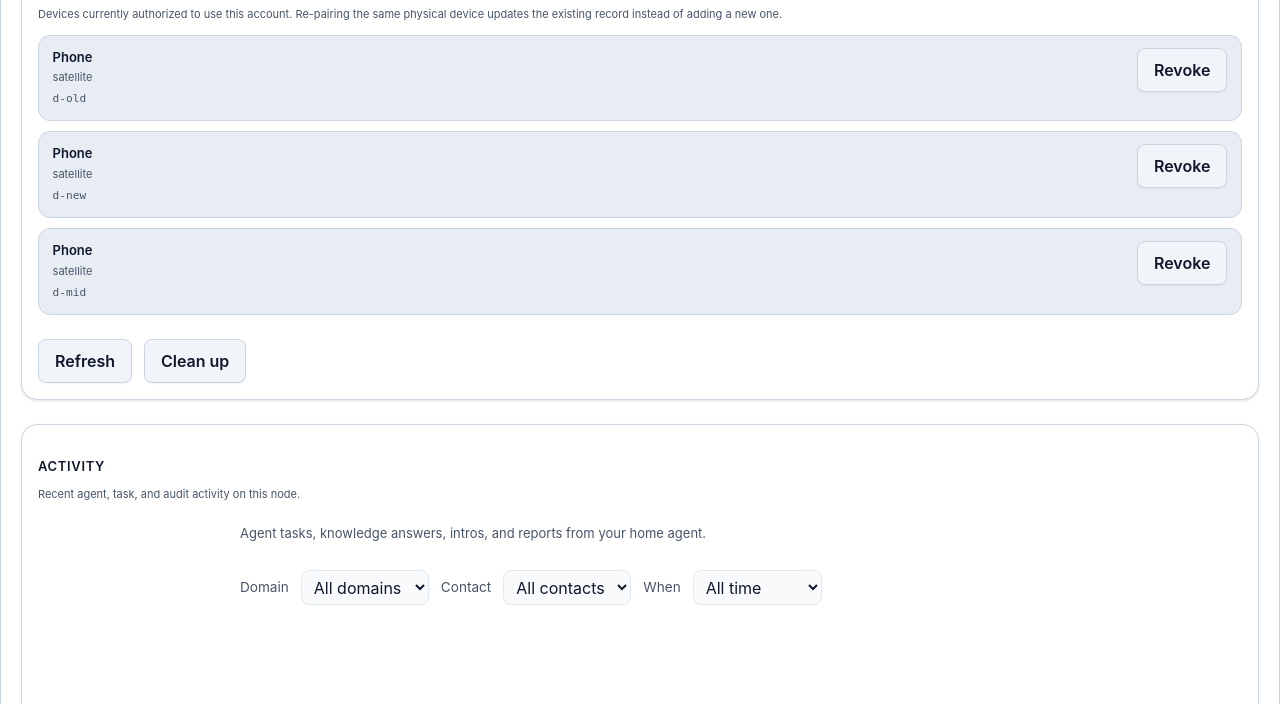
Test: SettingsAppTab (Language / Appearance / Authorized Devices / Activity) › merges older duplicates into the most-recently-paired record on confirm
(page scrolled)
Expected: the 1st text "Phone" is shown, 53,48 -> 92,64
Click the button "Clean up". click: click(195, 361)
box: 144,339 -> 246,383
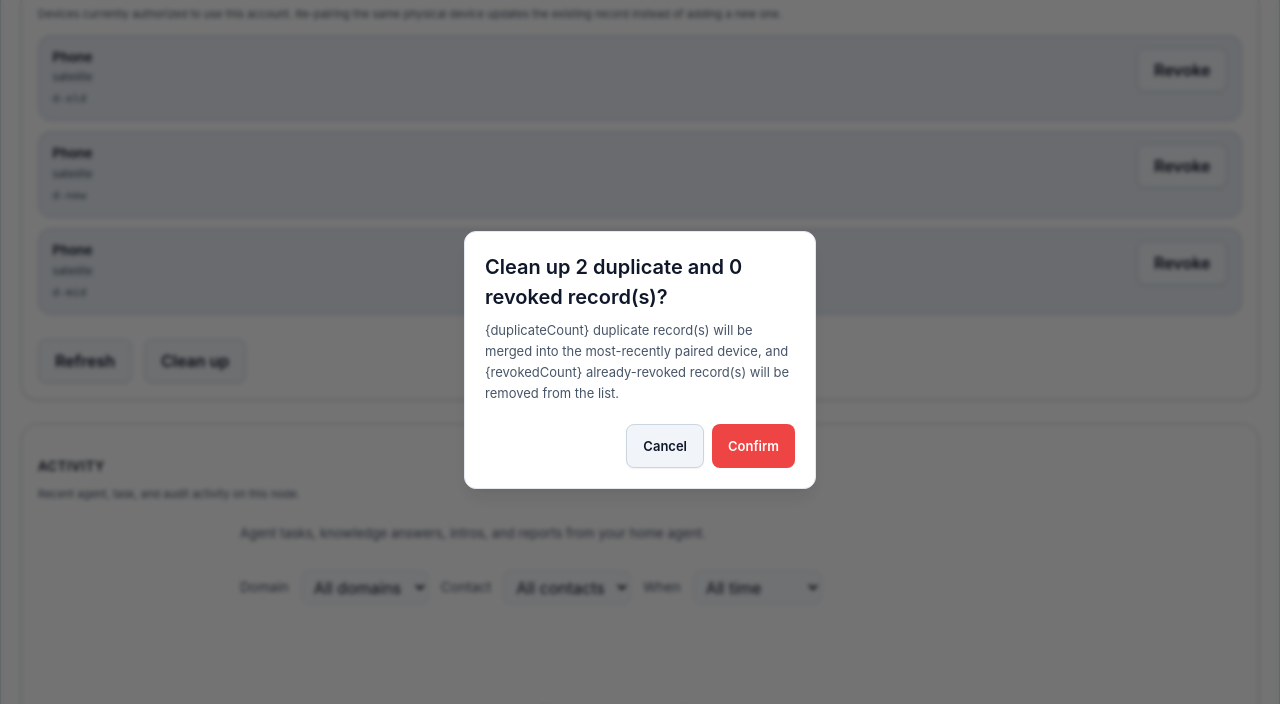
Note: ConfirmDialog appears — click the confirm button
Click the button "Confirm". click: click(754, 446)
box: 712,424 -> 795,468
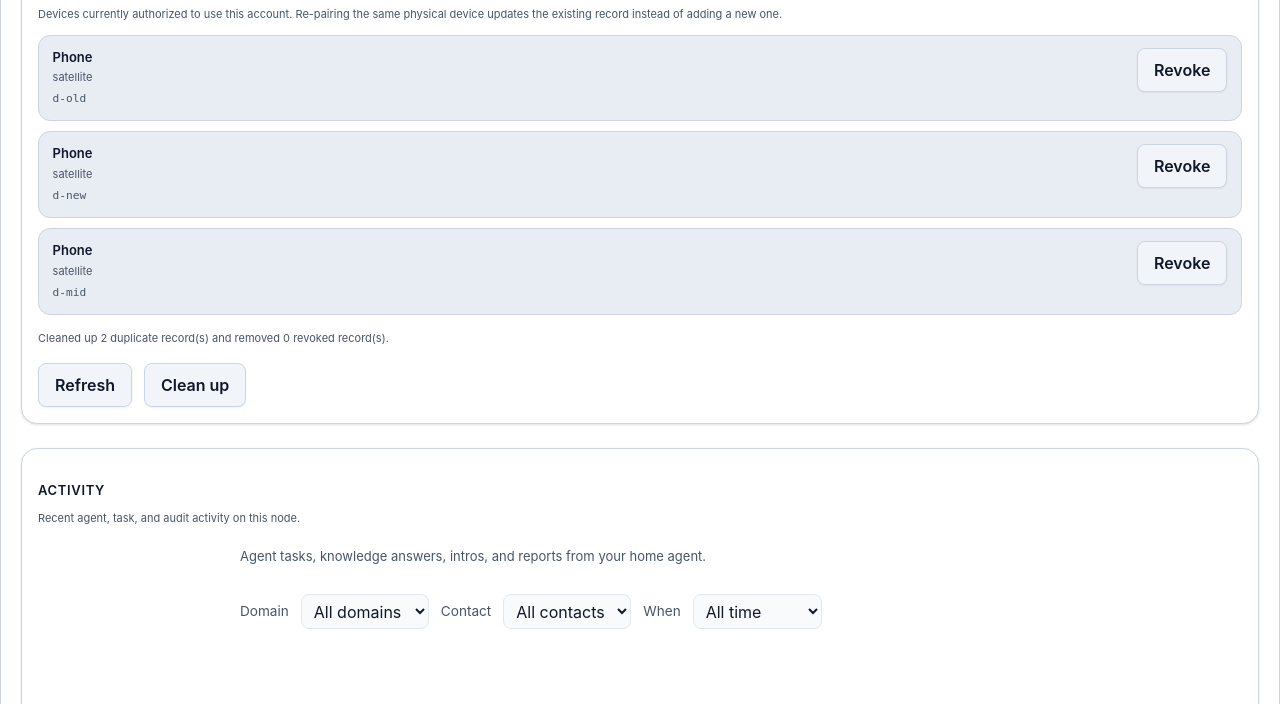
Expected: the text "d-new" is shown, 53,189 -> 86,202
Now the text "Cleaned up 2 duplicate record(s) and removed 0 revoked record(s)." is shown, box 38,331 -> 389,345
